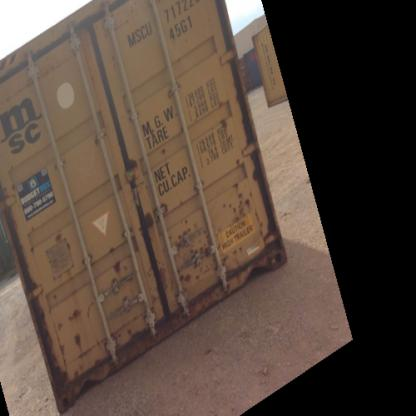Damage: (173, 218, 215, 290), (221, 176, 254, 222), (64, 301, 87, 351), (47, 362, 87, 386), (220, 244, 249, 273), (104, 240, 125, 275), (120, 314, 148, 340), (138, 207, 161, 236), (51, 230, 74, 252), (5, 173, 24, 195), (62, 259, 82, 277), (90, 125, 104, 149), (44, 282, 60, 298), (124, 270, 138, 288), (159, 139, 172, 158), (231, 152, 244, 167), (217, 114, 232, 127), (23, 237, 36, 252), (175, 193, 187, 207)
